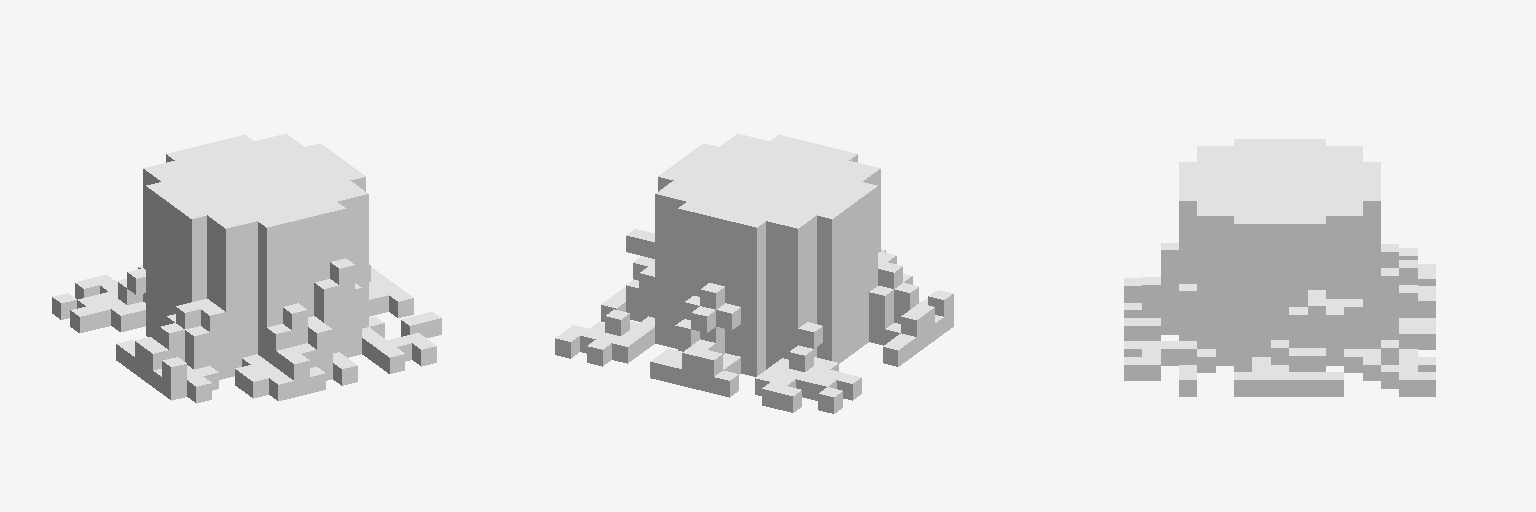
The model's file is MelochevkaLes-1.obj.
3 renders of one model, left to right at view 1: azimuth 30°, elevation 25°; view 2: azimuth 150°, elevation 25°; view 3: azimuth 270°, elevation 25°, orthographic.
Parts seen in each view (by area): view 1: object 1; view 2: object 1; view 3: object 1.
Part boxes in pixels (bbox=[...]): object 1: bbox=[52, 134, 441, 403]; object 1: bbox=[555, 134, 953, 413]; object 1: bbox=[1124, 139, 1435, 396].
Bounding box in the file's own units: 1.7 × 0.9 × 1.7.